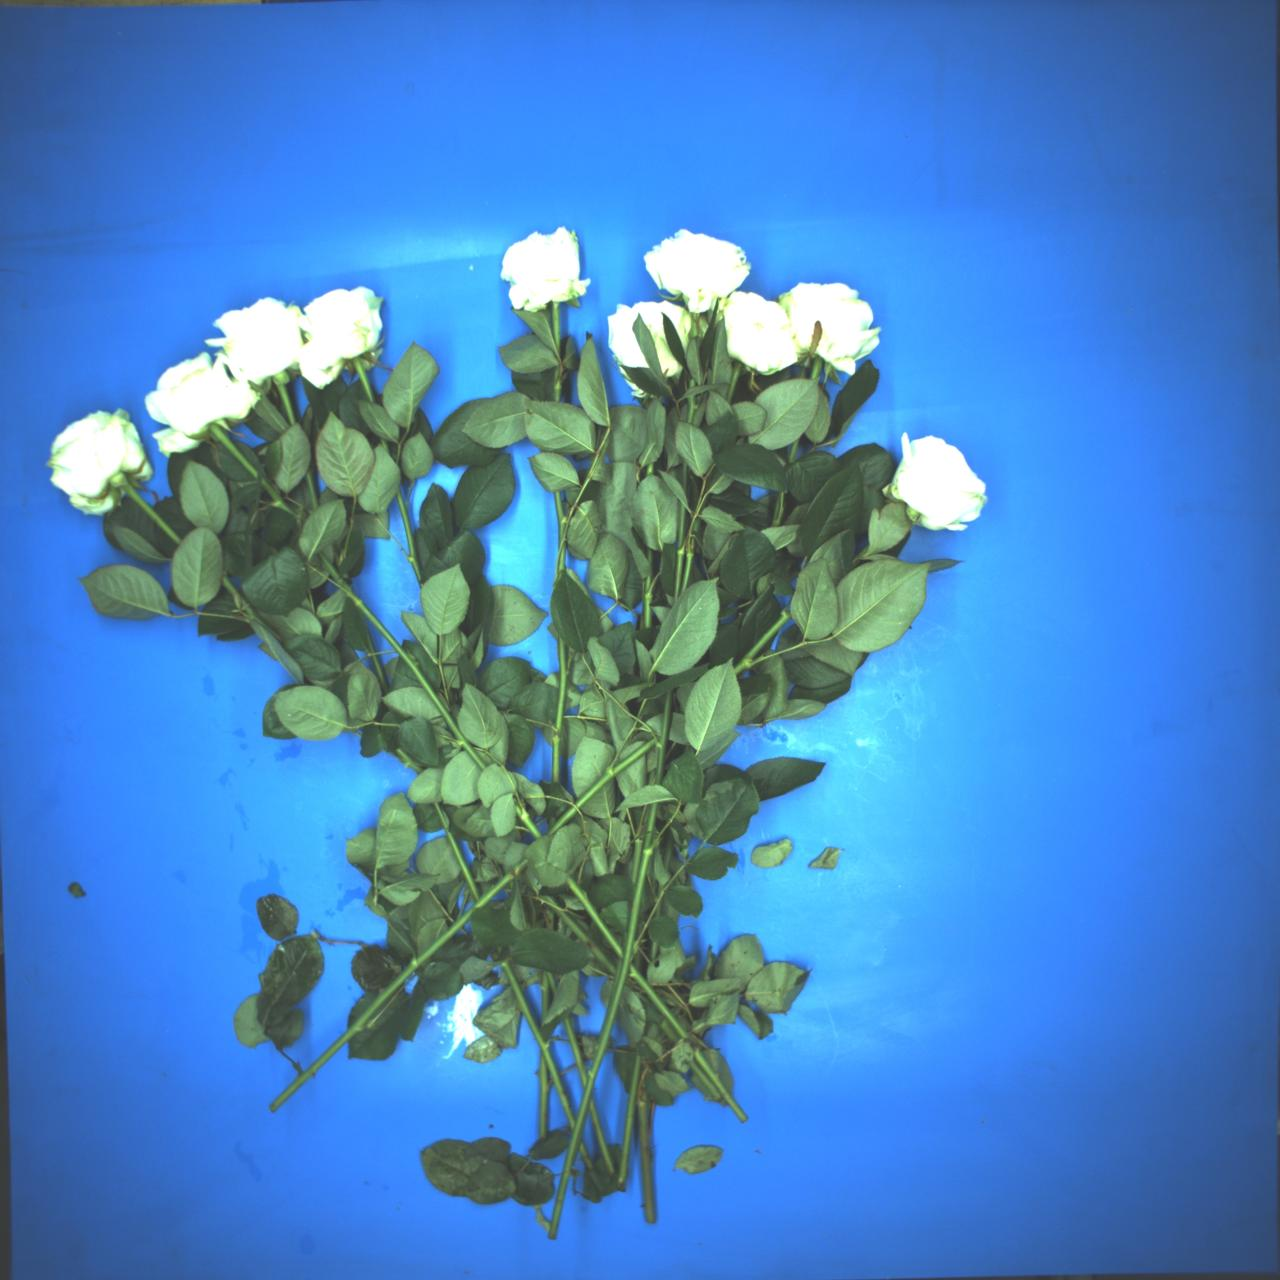Stem: (267, 853, 527, 1116), (537, 801, 673, 1240), (313, 550, 495, 771), (627, 966, 750, 1128), (498, 962, 583, 1130), (539, 731, 661, 838), (628, 987, 724, 1101), (211, 427, 297, 522), (539, 891, 621, 975), (433, 802, 483, 903), (566, 877, 626, 961), (729, 611, 791, 678), (219, 577, 279, 646), (123, 484, 184, 546), (618, 1055, 642, 1191), (549, 636, 570, 782), (634, 1098, 658, 1225), (651, 689, 678, 785), (395, 490, 422, 584), (586, 1098, 615, 1176), (563, 1017, 591, 1088), (626, 804, 651, 884), (678, 517, 702, 594), (363, 629, 390, 694), (577, 1142, 606, 1193), (552, 492, 570, 572), (673, 502, 686, 605), (352, 359, 376, 406), (274, 377, 297, 427), (512, 804, 542, 839), (395, 748, 424, 776), (724, 362, 743, 403), (540, 1054, 549, 1138), (305, 470, 320, 511), (685, 382, 697, 424), (661, 838, 675, 871), (542, 972, 550, 1020), (645, 574, 652, 627), (552, 305, 559, 354), (84, 445, 103, 463), (552, 367, 561, 401), (680, 463, 688, 497), (547, 973, 559, 994), (649, 942, 658, 961), (646, 547, 652, 567), (648, 769, 655, 785), (647, 462, 653, 476)
flower: (32, 399, 164, 527), (129, 338, 264, 462), (770, 258, 896, 390), (636, 204, 760, 327), (199, 277, 324, 397), (879, 428, 999, 542), (595, 284, 700, 383), (492, 222, 594, 321), (299, 284, 384, 390), (721, 286, 798, 377)
